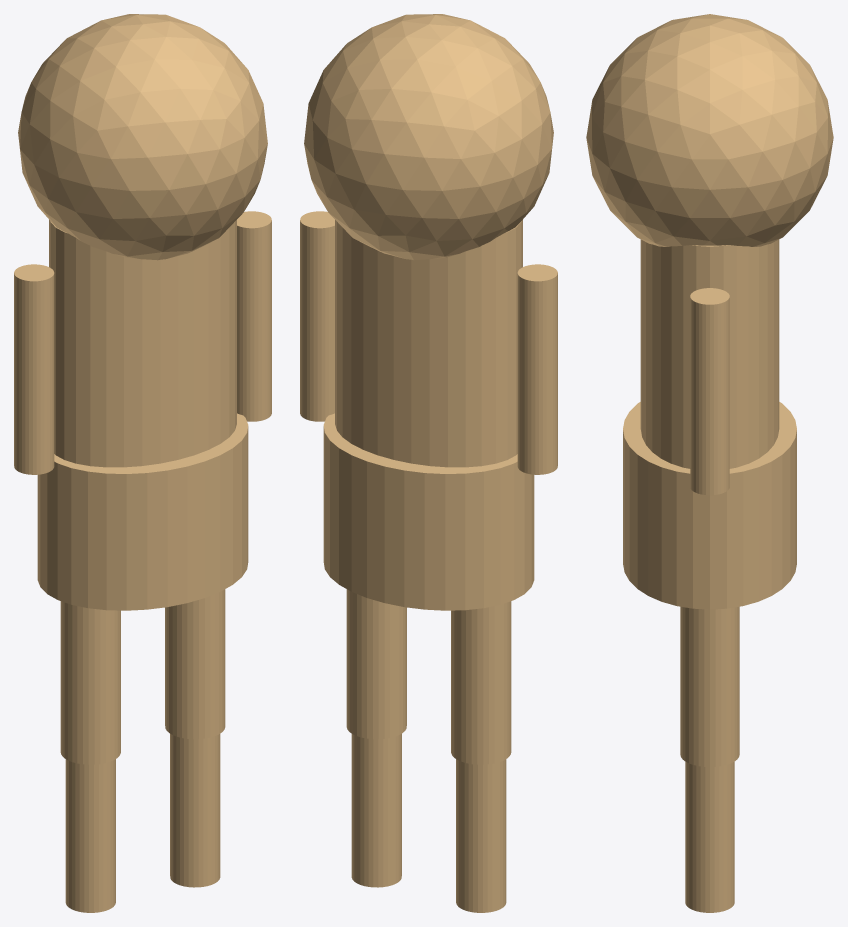
3 renders of one model, left to right at view 1: azimuth 30°, elevation 25°; view 2: azimuth 150°, elevation 25°; view 3: azimuth 270°, elevation 25°, orthographic.
Visible parts, largest first — view 1: Torso; view 2: Torso; view 3: Torso.
Boxes of the visible parts, x1,y1,x2,y2 form: Torso: (14, 14, 271, 912); Torso: (300, 14, 557, 912); Torso: (586, 14, 833, 912).
Size of the model in its own units: 0.58 by 1.9 by 0.5.
